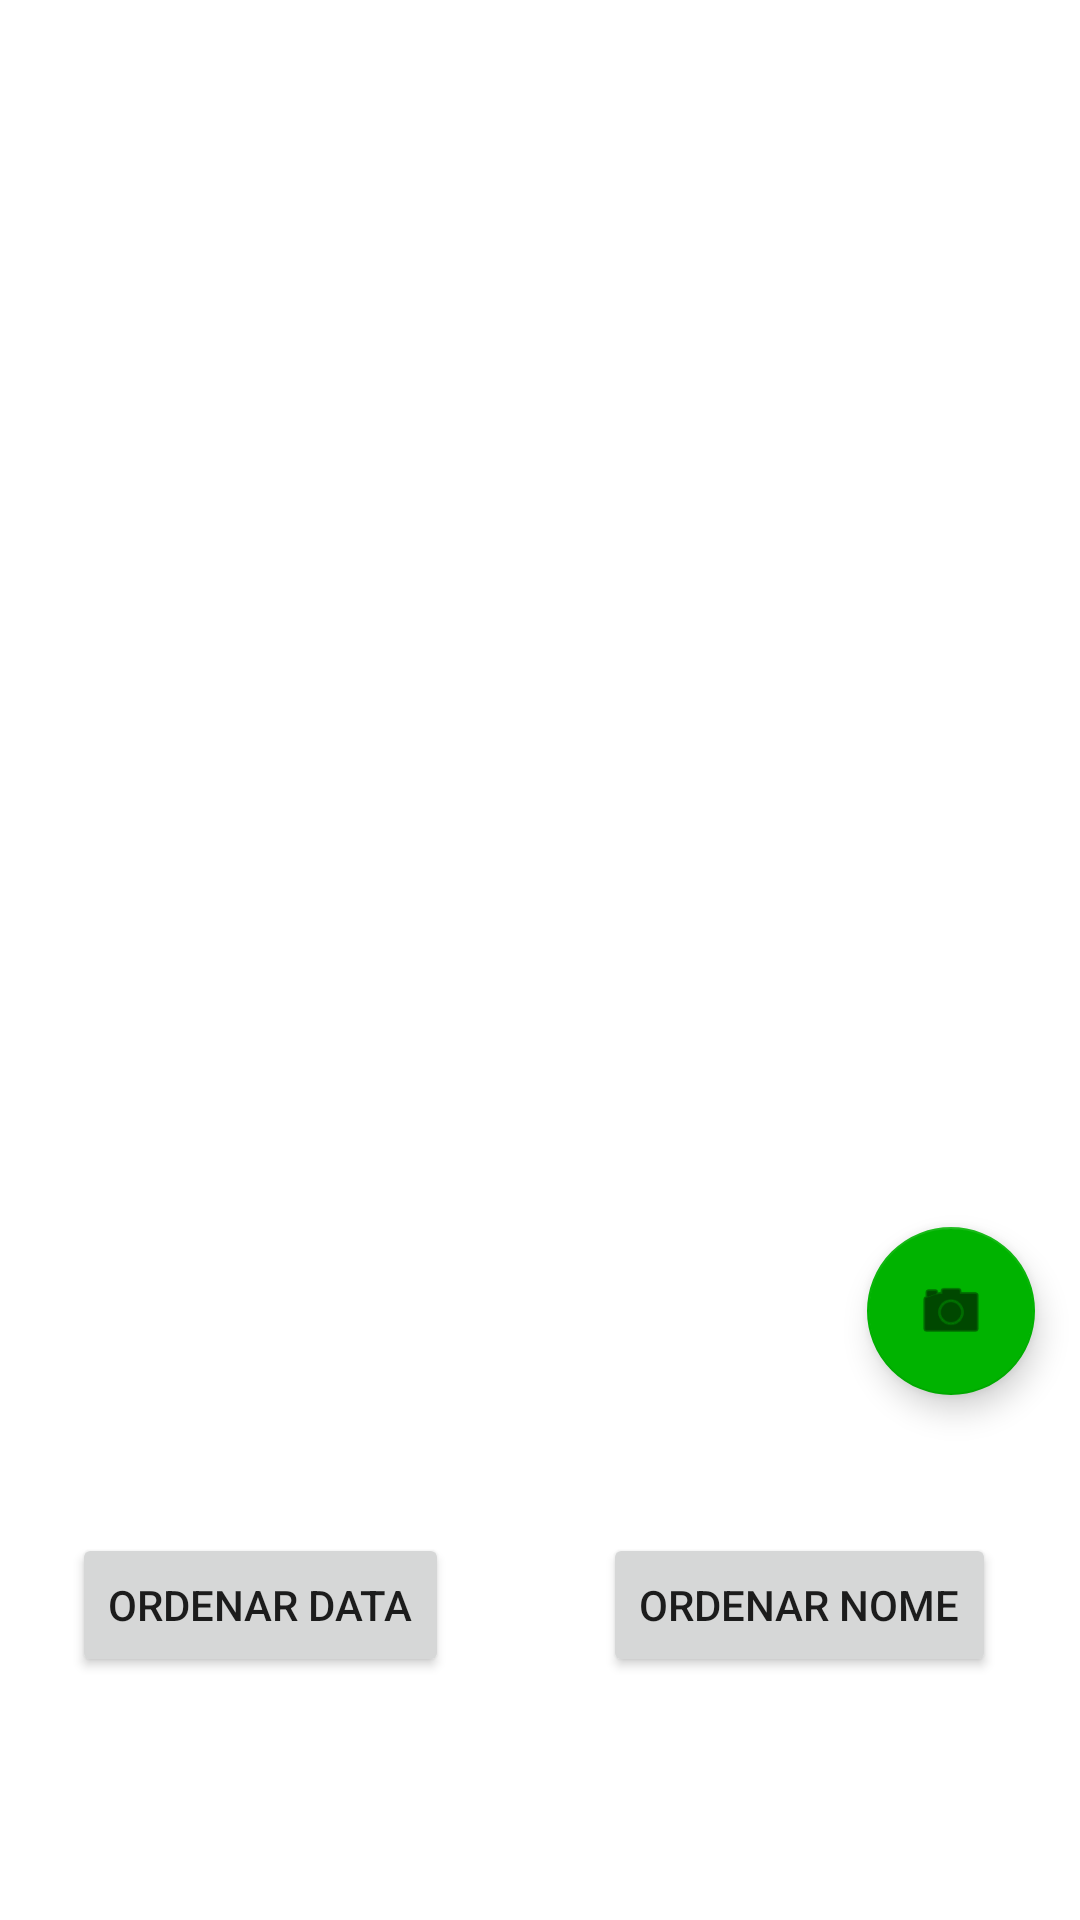

Icons on this 1080*1920 Android screen, each with its box as (x1, y1, x2, y2):
camera: (867, 1227, 1035, 1395)
